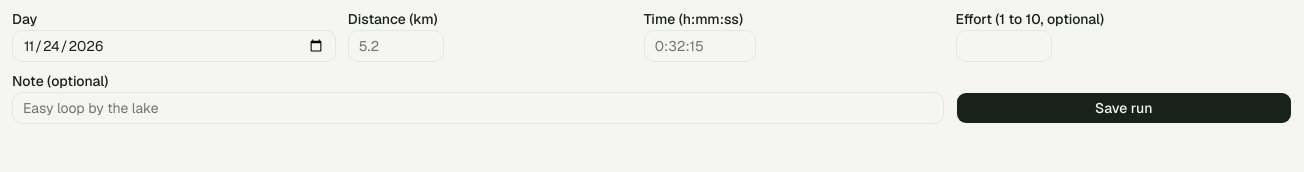
RunForm › backspaces across an automatically added separator
The image size is (1304, 172).
Type "3" into the field labelled "Time (h:mm:ss)" at (700, 46), box [644, 30, 756, 62]
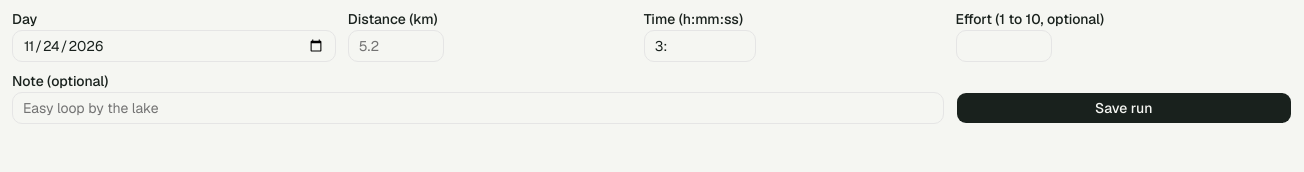
expect the field labelled "Time (h:mm:ss)" holds "3:": met
Replace the text in the field labelled "Time (h:mm:ss)" with "3" at (700, 46), box [644, 30, 756, 62]
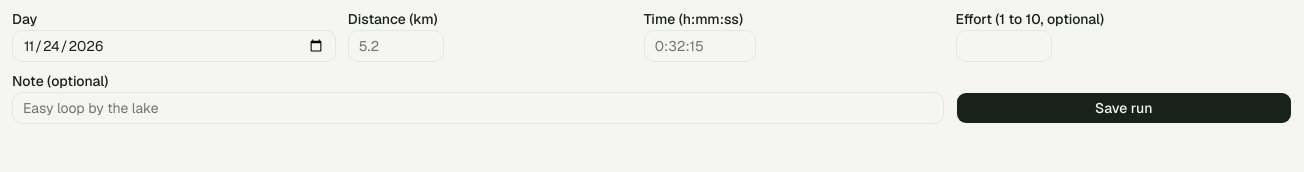
expect the field labelled "Time (h:mm:ss)" is empty: met, box [644, 30, 756, 62]
